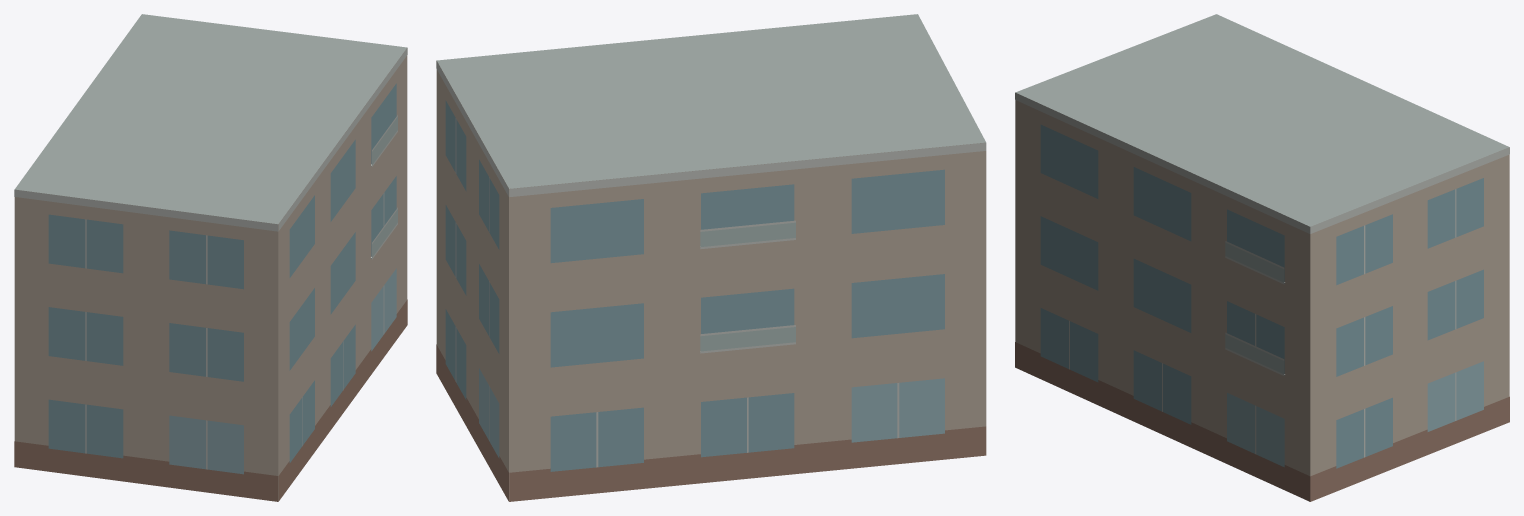
File: survey-upis-32684474.glb
The picture shows the model from 3 angles, left to right: view 1: azimuth 30°, elevation 25°; view 2: azimuth 150°, elevation 25°; view 3: azimuth 270°, elevation 25°; orthographic projection. The views are drawn at different scales.
Parts seen in each view (by area): view 1: survey-upis-32684474.tmp; view 2: survey-upis-32684474.tmp; view 3: survey-upis-32684474.tmp.
Part boxes in pixels (bbox=[...]): survey-upis-32684474.tmp: bbox=[14, 14, 407, 501]; survey-upis-32684474.tmp: bbox=[436, 14, 986, 501]; survey-upis-32684474.tmp: bbox=[1015, 14, 1509, 501].
Bounding box in the file's own units: 15.19 × 9.15 × 14.92.
